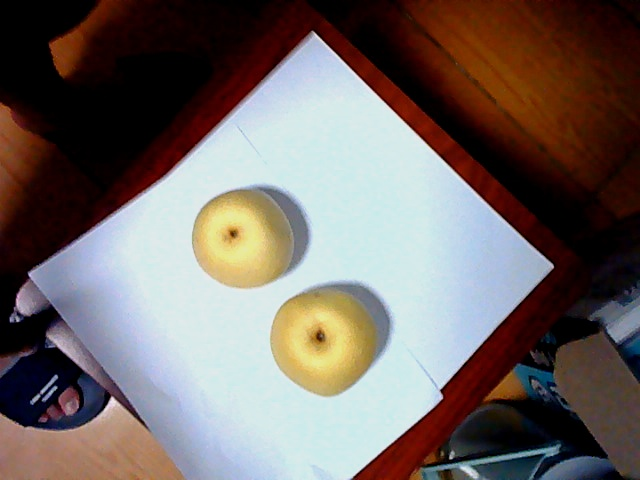pear: (271, 284, 374, 396), (187, 187, 294, 283)
